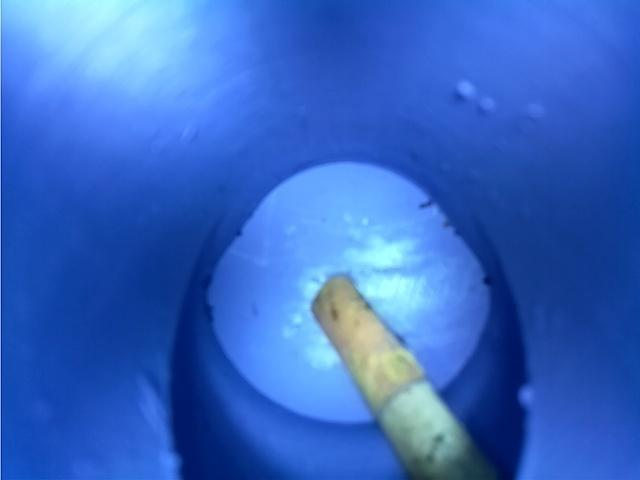megot: (294, 260, 508, 479)
